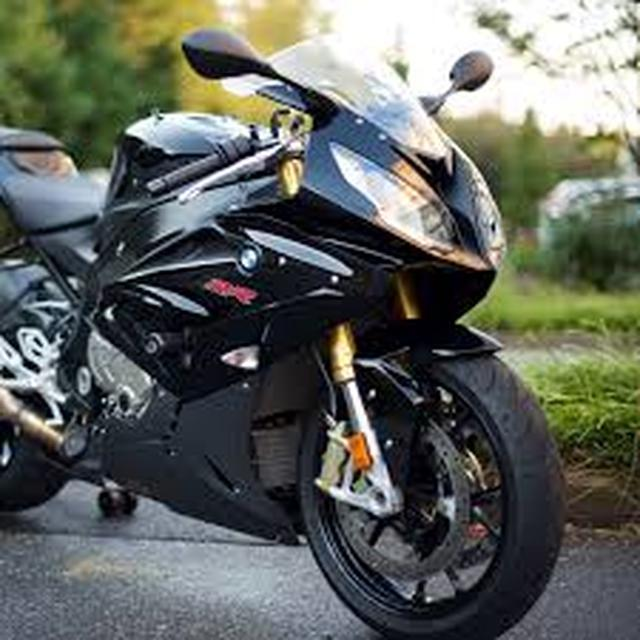motorcycle: (1, 19, 576, 640)
